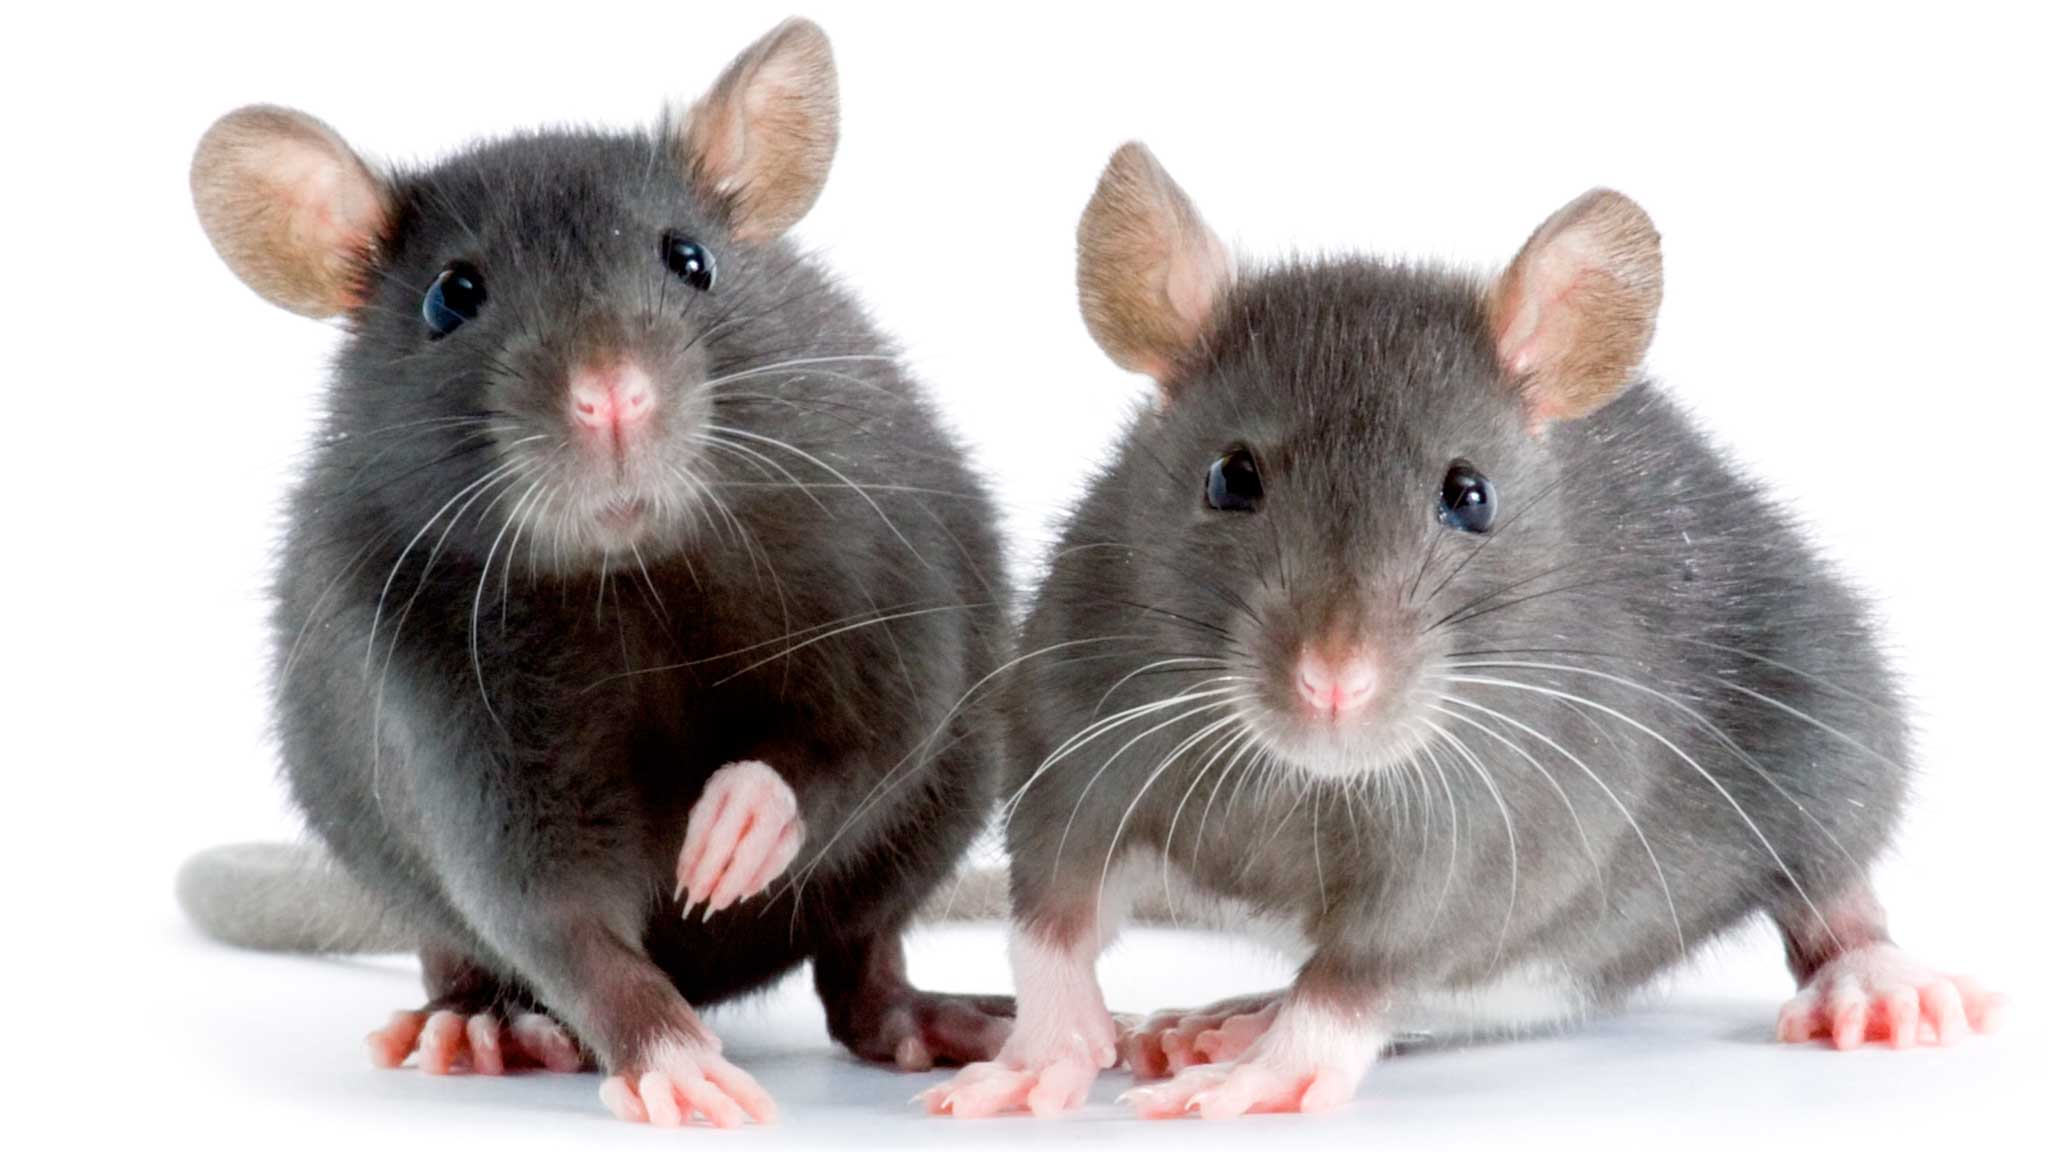Rat: (148, 1, 1037, 1061), (966, 115, 1924, 1054)
